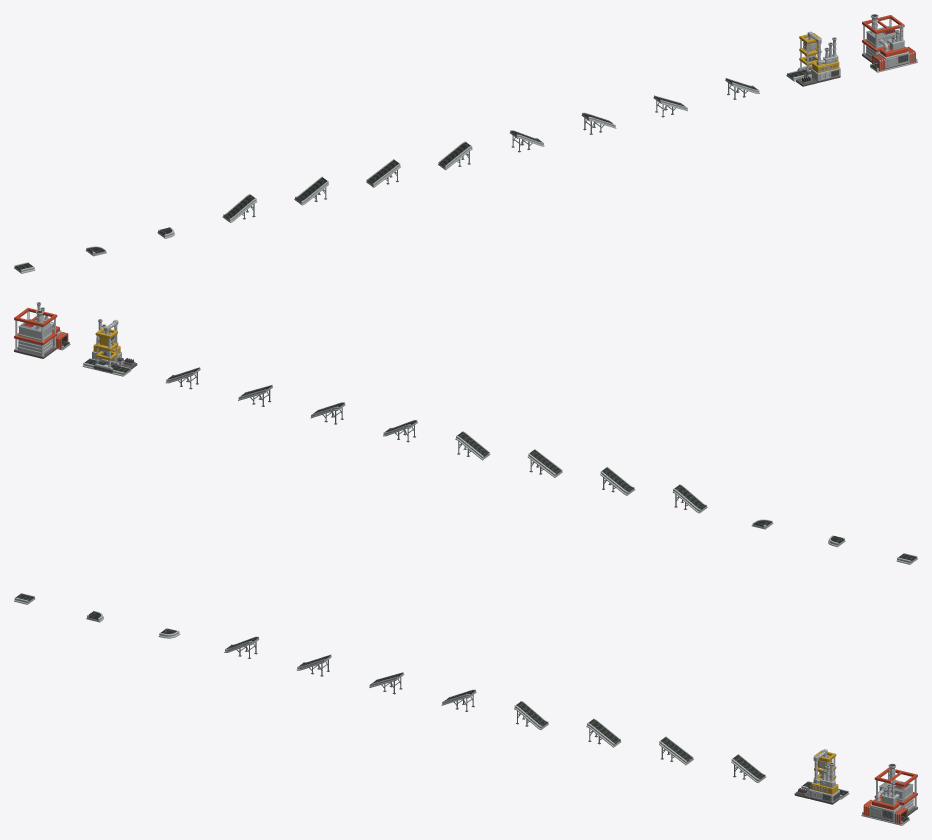
Rendered from factory.fbx.
3 views of the same model, one above another, from view 1: azimuth 30°, elevation 25°; view 2: azimuth 150°, elevation 25°; view 3: azimuth 330°, elevation 25° (orthographic).
Visible parts, largest first — view 1: mill14, former5; view 2: mill14, former5; view 3: mill14, former5, belt_ramp_down_start, belt_ramp_down_mid, belt_ramp_down_end.
Boxes of the visible parts, x1,y1,x2,y2 form: mill14: (862, 14, 917, 72); former5: (786, 31, 840, 86); mill14: (14, 302, 70, 358); former5: (82, 319, 137, 376); mill14: (861, 763, 917, 825); former5: (794, 749, 849, 804); belt_ramp_down_start: (586, 718, 621, 747); belt_ramp_down_mid: (659, 736, 693, 765); belt_ramp_down_end: (731, 754, 766, 782).
Size of the model in its own units: 198 by 8.82 by 8.3.
Materials: 1 (1 with a texture image).
